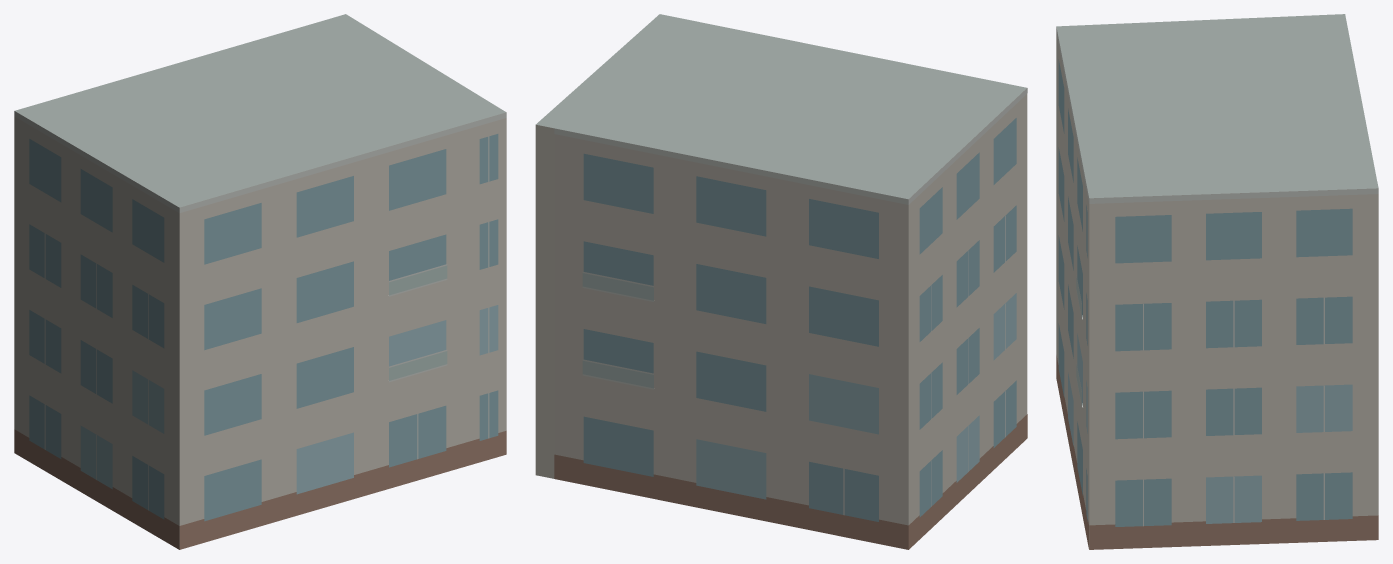
Rendered from survey-upis-32894102.glb.
3 views of the same model, side by side, from view 1: azimuth 30°, elevation 25°; view 2: azimuth 150°, elevation 25°; view 3: azimuth 270°, elevation 25° (orthographic). The views are drawn at different scales.
Visible parts, largest first — view 1: survey-upis-32894102.tmp; view 2: survey-upis-32894102.tmp; view 3: survey-upis-32894102.tmp.
Part boxes in pixels (box(x1,y1,x2,y2)): survey-upis-32894102.tmp: box(14, 14, 506, 549); survey-upis-32894102.tmp: box(535, 14, 1027, 549); survey-upis-32894102.tmp: box(1056, 14, 1378, 549).
Bounding box in the file's own units: 16.87 × 15 × 12.47.
